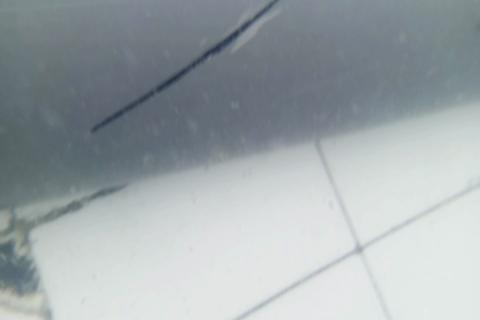keretakan: (90, 0, 277, 132)
